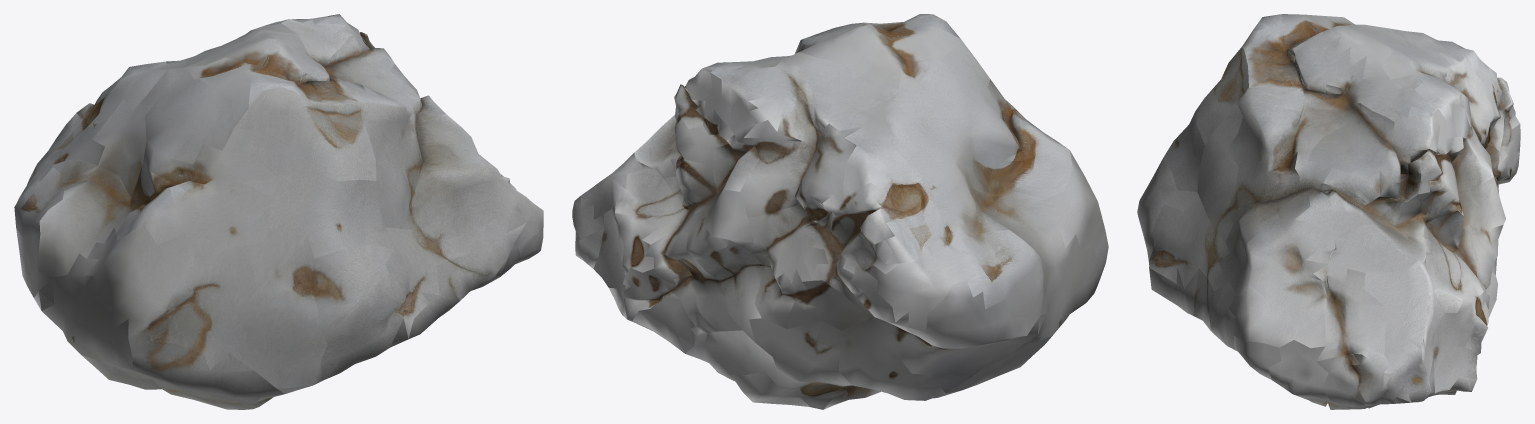
The model's file is asteroid.glb.
The picture shows the model from 3 angles, left to right: view 1: azimuth 30°, elevation 25°; view 2: azimuth 150°, elevation 25°; view 3: azimuth 270°, elevation 25°; orthographic projection.
Bounding box in the file's own units: 0.957 × 0.6978 × 0.6772.
1 material, 1 textured.
